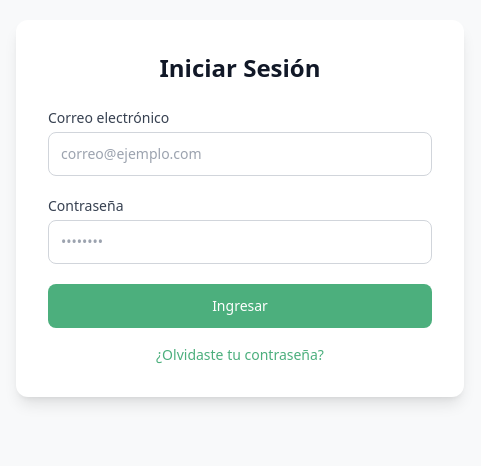
Test: LoginPage › preservation — flujo de login (Property 2) › error 403 USER_INACTIVE: muestra el mensaje de cuenta inactiva del servidor
In the field labelled "Correo electrónico": (240, 154) 48,132 -> 432,176, type "inactivo@example.com"
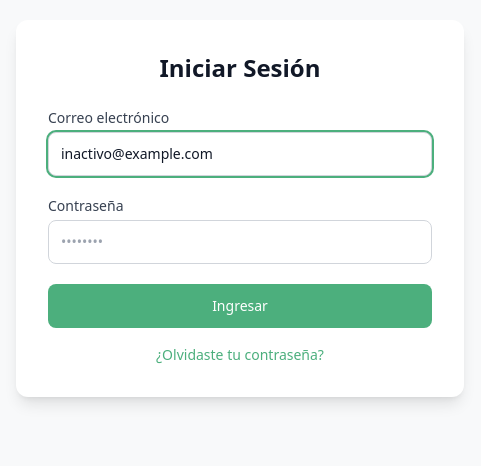
In the password field labelled "Contraseña": (240, 242) 48,220 -> 432,264, type "claveCualquiera"
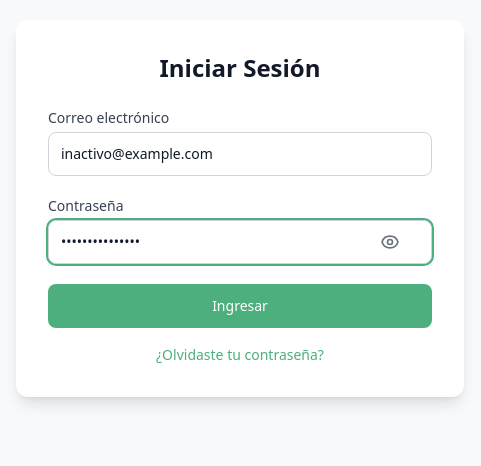
Click the button "Ingresar": (240, 306) 48,284 -> 432,328
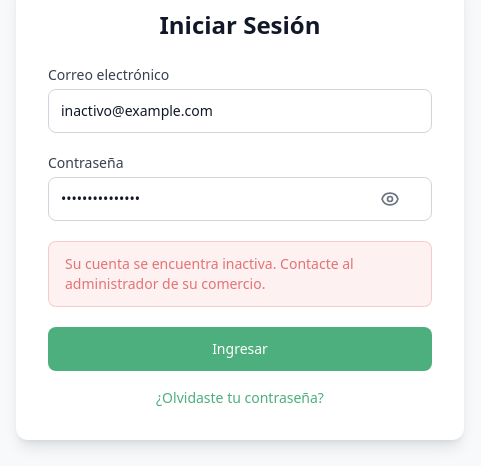
Expected: the text "Su cuenta se encuentra inactiva. Contacte al administrador de su comercio." is shown, 48,240 -> 432,306
